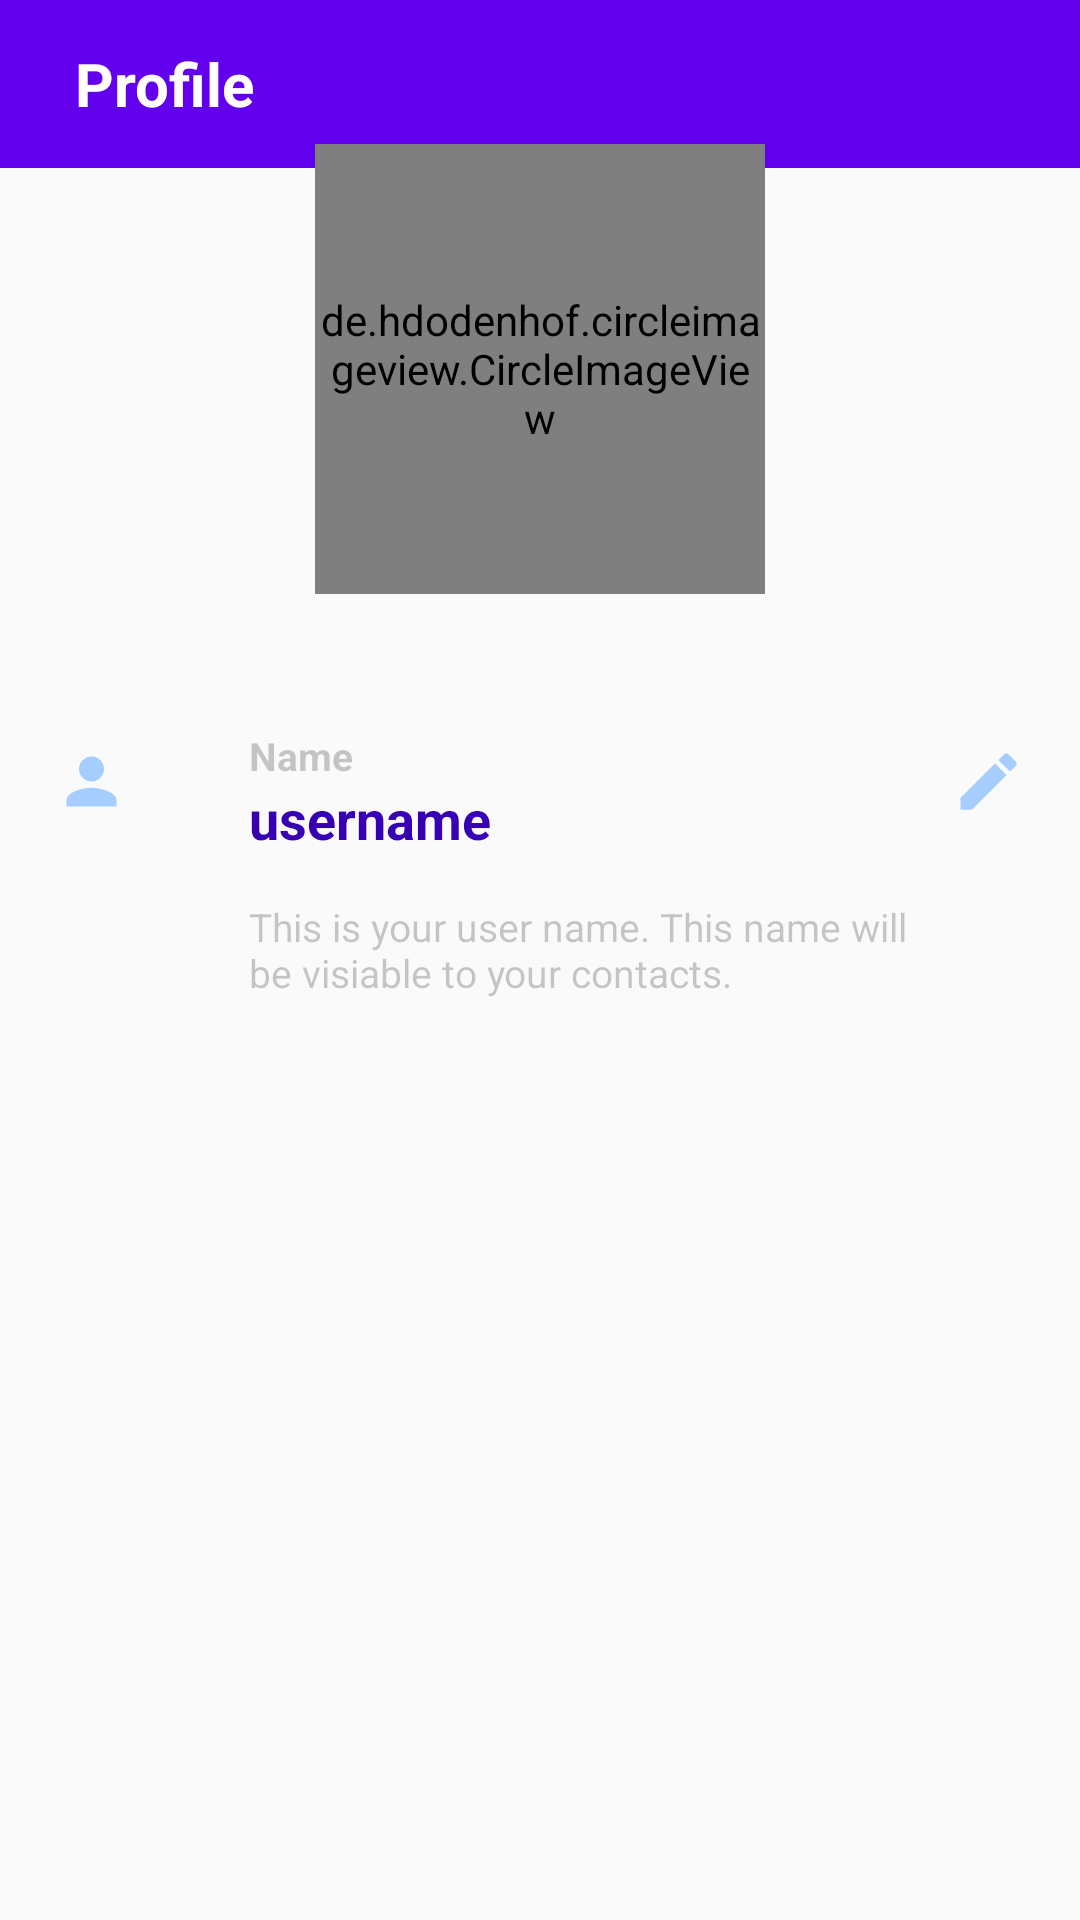

Point at icon controls on the screen. Image size 1080w x 1920h, points as point (x, y).
person: point (91, 781)
